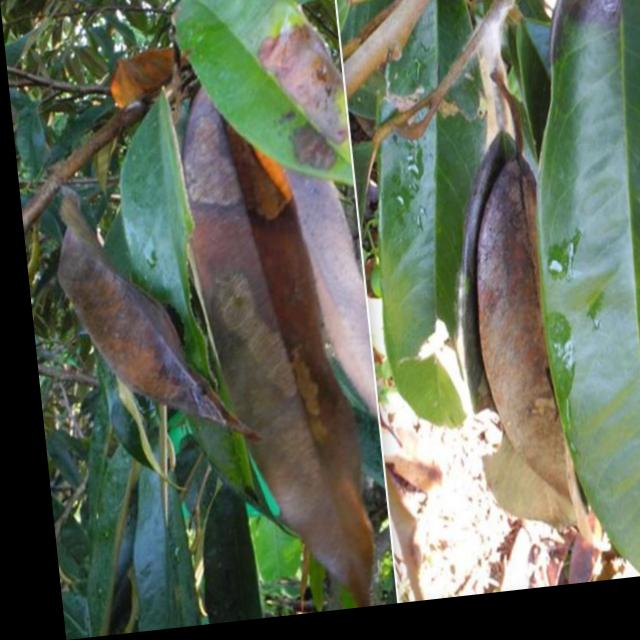Leaf Blight: (150, 120, 310, 520), (448, 133, 560, 418), (77, 235, 221, 439), (140, 78, 265, 251), (507, 0, 640, 118), (249, 30, 353, 180), (637, 302, 640, 525)
